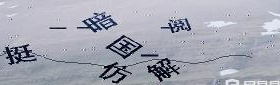chinese: (4, 40, 38, 67), (110, 31, 145, 56), (149, 58, 181, 81), (162, 16, 199, 34), (83, 11, 117, 30), (95, 64, 126, 83)
